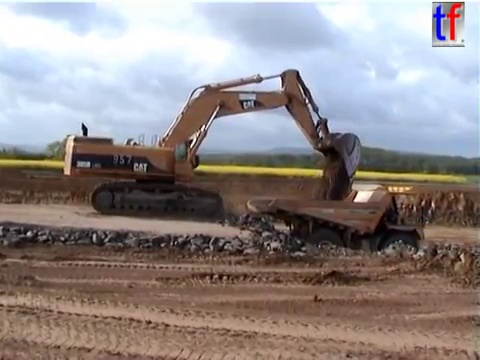excavator: (61, 65, 364, 221)
truck: (243, 181, 435, 276)
